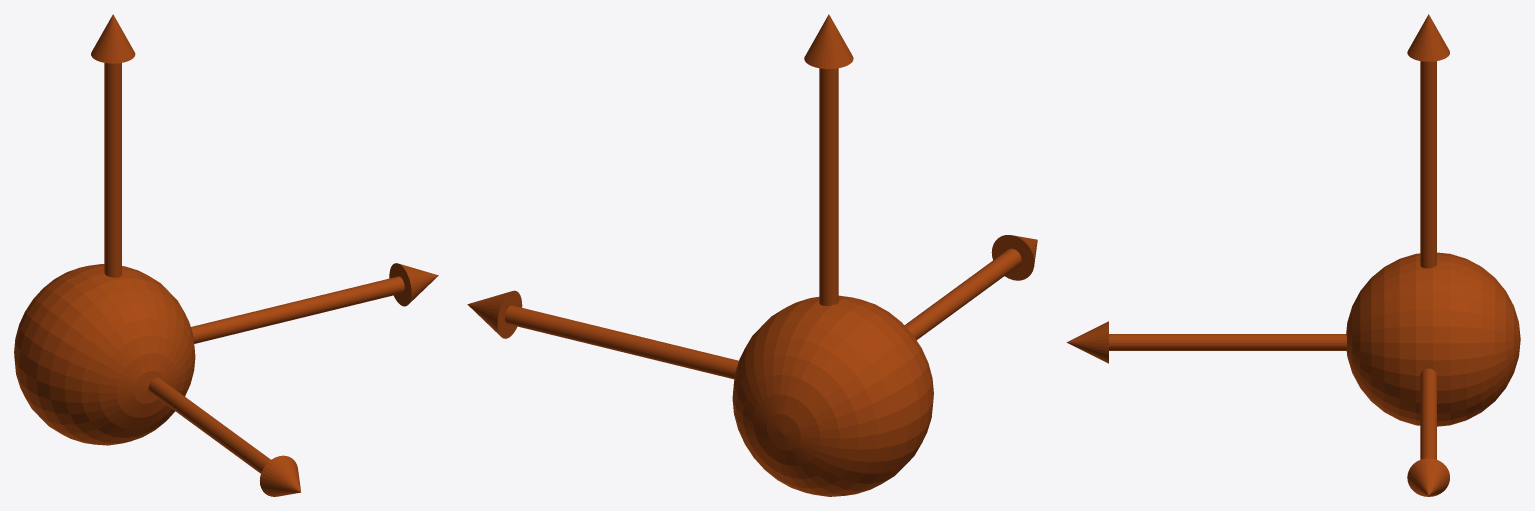
File: Marker.OBJ
3 renders of one model, left to right at view 1: azimuth 30°, elevation 25°; view 2: azimuth 150°, elevation 25°; view 3: azimuth 270°, elevation 25°, orthographic. The views are drawn at different scales.
Visible parts, largest first — view 1: /ambf/env/Marker_Marker; view 2: /ambf/env/Marker_Marker; view 3: /ambf/env/Marker_Marker.
Part boxes in pixels (x1=…): /ambf/env/Marker_Marker: x1=14, y1=14, x2=438, y2=496; /ambf/env/Marker_Marker: x1=467, y1=14, x2=1037, y2=496; /ambf/env/Marker_Marker: x1=1066, y1=14, x2=1520, y2=496.
Bounding box in the file's own units: 0.1998 × 0.1968 × 0.1987.
